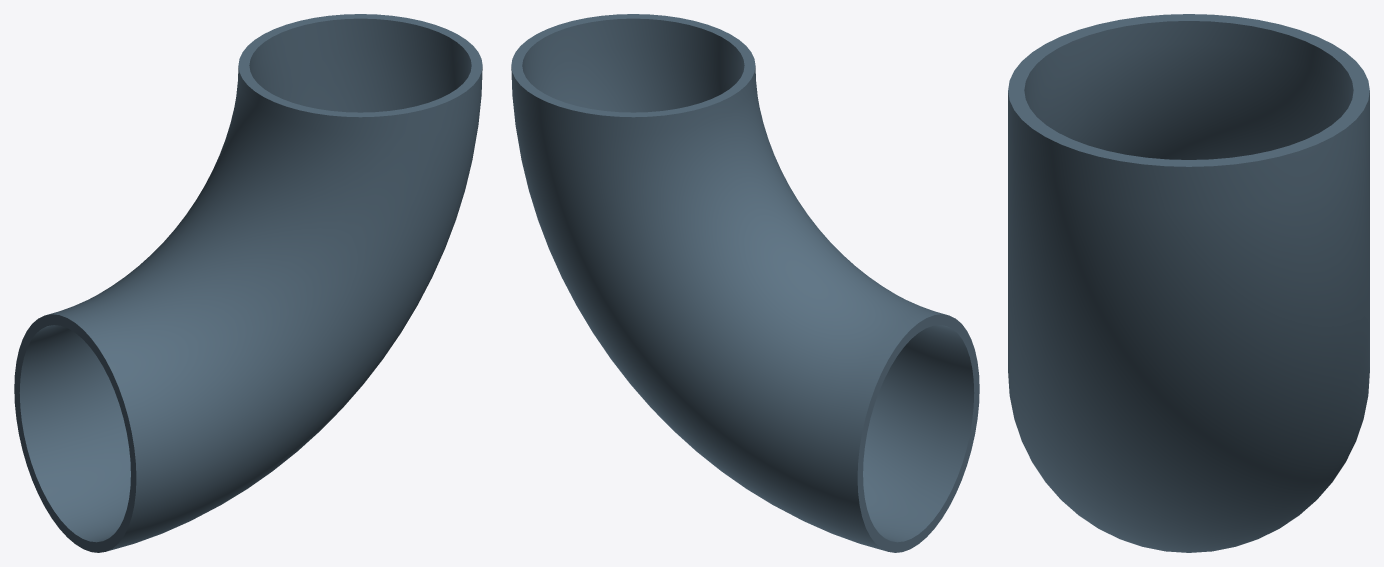
The model's file is otvod-90-89x4-R120.glb.
3 views of the same model, side by side, from view 1: azimuth 30°, elevation 25°; view 2: azimuth 150°, elevation 25°; view 3: azimuth 270°, elevation 25° (orthographic). The views are drawn at different scales.
Visible parts, largest first — view 1: Open CASCADE STEP translator 7.9 27; view 2: Open CASCADE STEP translator 7.9 27; view 3: Open CASCADE STEP translator 7.9 27.
Part boxes in pixels (left/top/right/bottom): Open CASCADE STEP translator 7.9 27: left=14, top=14, right=482, bottom=552; Open CASCADE STEP translator 7.9 27: left=511, top=14, right=979, bottom=552; Open CASCADE STEP translator 7.9 27: left=1008, top=14, right=1369, bottom=552.
Size of the model in its own units: 164 by 164 by 89.
